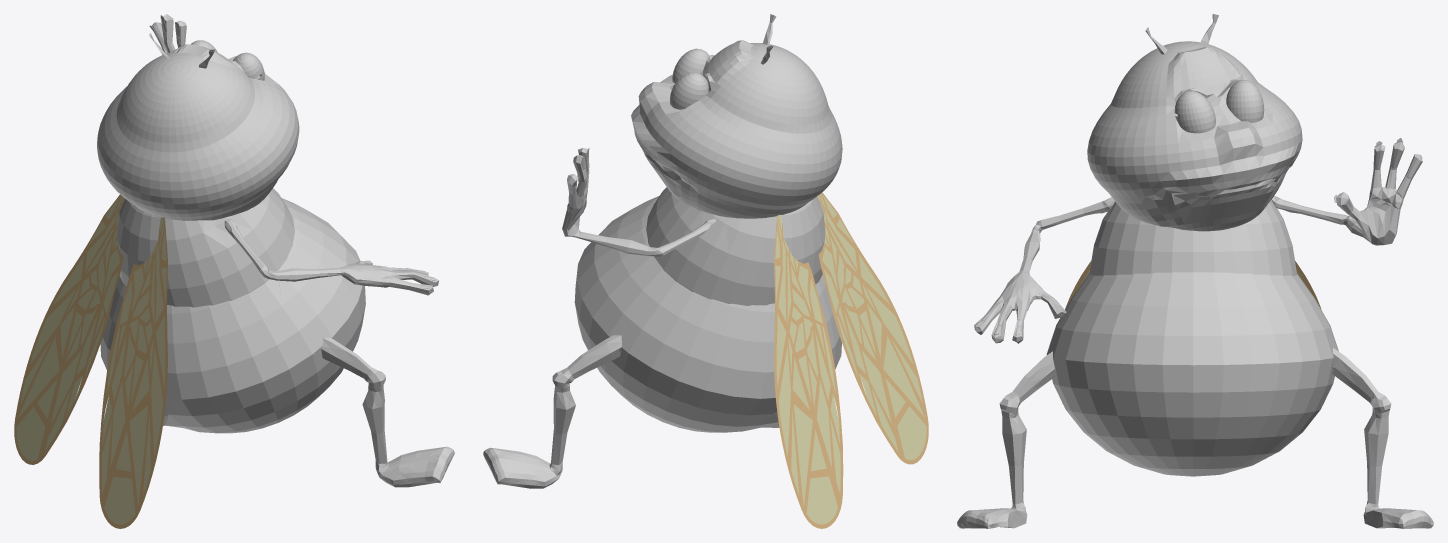
Rendered from bee.dae.
3 views of the same model, side by side, from view 1: azimuth 30°, elevation 25°; view 2: azimuth 150°, elevation 25°; view 3: azimuth 270°, elevation 25° (orthographic). The views are drawn at different scales.
Visible parts, largest first — view 1: Cuerpo, Alas_splitIZQ, CABEZA, pierna_derecha, brazo_derecho, Brazo_izq, OJO_000; view 2: Cuerpo, Alas_splitIZQ, CABEZA, pierna_izq, Brazo_izq, OJO_2, OJO_000; view 3: Cuerpo, CABEZA, Brazo_izq, pierna_izq, pierna_derecha, brazo_derecho, OJO_000, OJO_2.
Boxes of the visible parts, x1=… form: Cuerpo: x1=100, y1=188, x2=365, y2=433; Alas_splitIZQ: x1=14, y1=194, x2=167, y2=528; CABEZA: x1=97, y1=33, x2=299, y2=220; pierna_derecha: x1=321, y1=338, x2=454, y2=487; brazo_derecho: x1=224, y1=218, x2=439, y2=295; Brazo_izq: x1=149, y1=14, x2=186, y2=53; OJO_000: x1=233, y1=52, x2=264, y2=80; Cuerpo: x1=574, y1=187, x2=841, y2=432; Alas_splitIZQ: x1=774, y1=192, x2=928, y2=528; CABEZA: x1=631, y1=14, x2=842, y2=218; pierna_izq: x1=483, y1=335, x2=621, y2=488; Brazo_izq: x1=562, y1=148, x2=715, y2=256; OJO_2: x1=670, y1=72, x2=708, y2=109; OJO_000: x1=672, y1=48, x2=709, y2=82; Cuerpo: x1=1046, y1=200, x2=1338, y2=476; CABEZA: x1=1087, y1=14, x2=1302, y2=231; Brazo_izq: x1=1271, y1=138, x2=1422, y2=245; pierna_izq: x1=1332, y1=348, x2=1433, y2=528; pierna_derecha: x1=957, y1=351, x2=1054, y2=528; brazo_derecho: x1=974, y1=197, x2=1114, y2=343; OJO_000: x1=1174, y1=90, x2=1215, y2=133; OJO_2: x1=1226, y1=80, x2=1264, y2=122.
Bounding box in the file's own units: 0.7032 × 0.9459 × 1.
